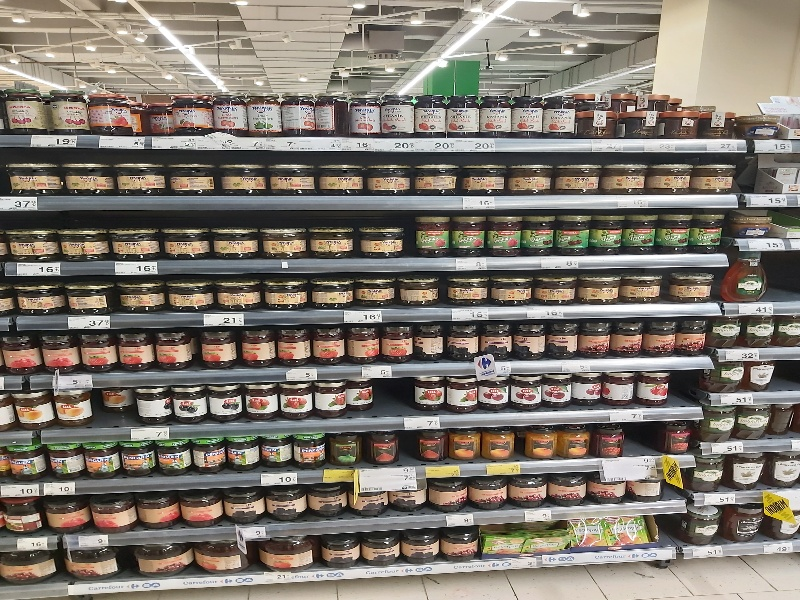urun1: (726, 254, 776, 306), (668, 263, 720, 307), (7, 158, 64, 196), (110, 155, 167, 193), (163, 157, 220, 195), (251, 538, 316, 571), (1, 549, 64, 582), (375, 90, 418, 137), (109, 220, 162, 258), (157, 222, 210, 260), (305, 221, 358, 259), (205, 89, 246, 138), (242, 90, 283, 139), (441, 91, 482, 140), (473, 91, 514, 140), (509, 91, 550, 140), (410, 212, 454, 256), (481, 210, 525, 254), (12, 276, 64, 313), (38, 328, 82, 371), (113, 325, 157, 368), (151, 325, 195, 368), (196, 326, 240, 369), (314, 156, 363, 194), (363, 157, 412, 195), (506, 159, 555, 197), (554, 155, 603, 193), (88, 494, 135, 532), (135, 492, 182, 530), (729, 207, 780, 242), (599, 159, 651, 193), (644, 159, 696, 193), (164, 275, 216, 309), (65, 276, 117, 310), (519, 212, 560, 255), (587, 210, 628, 253), (13, 391, 57, 430), (130, 387, 174, 426), (168, 384, 212, 423), (659, 207, 696, 253), (689, 206, 726, 252), (425, 477, 471, 514), (621, 105, 671, 139), (3, 445, 51, 480), (538, 96, 577, 139), (137, 88, 171, 137), (722, 504, 770, 538), (576, 268, 620, 305), (490, 270, 534, 307), (1, 496, 43, 534), (623, 209, 660, 252), (87, 86, 118, 137), (220, 491, 265, 526), (728, 452, 767, 492), (478, 319, 515, 361), (309, 274, 354, 308), (264, 275, 309, 309), (398, 274, 442, 307), (267, 489, 312, 521), (241, 384, 282, 419), (765, 448, 800, 489), (345, 90, 376, 136), (205, 385, 245, 420), (45, 446, 85, 481), (692, 163, 737, 194), (223, 436, 264, 470), (399, 529, 441, 562), (479, 526, 521, 559), (565, 516, 607, 549), (389, 479, 428, 514), (505, 475, 548, 506), (546, 473, 589, 504), (587, 475, 630, 506), (625, 471, 668, 502), (257, 436, 296, 470), (412, 377, 447, 414), (474, 377, 509, 414), (601, 372, 636, 409), (639, 369, 674, 406), (326, 430, 360, 468), (366, 429, 400, 467), (448, 425, 482, 463), (525, 424, 559, 462), (558, 422, 592, 460), (592, 420, 626, 458), (704, 404, 738, 442), (693, 455, 724, 495), (711, 311, 745, 346), (577, 106, 611, 140), (744, 363, 782, 390), (774, 311, 800, 350)
urun2: (3, 82, 47, 135), (51, 84, 95, 137), (60, 156, 117, 194), (214, 156, 271, 194), (262, 155, 319, 193), (58, 546, 122, 579), (129, 544, 193, 577), (191, 540, 255, 573), (305, 321, 348, 369), (341, 319, 384, 367), (409, 90, 452, 137), (4, 225, 57, 263), (56, 223, 109, 261), (208, 218, 261, 256), (257, 220, 310, 258), (354, 220, 407, 258), (170, 88, 211, 137), (277, 87, 318, 136), (312, 88, 353, 137), (446, 211, 490, 255), (233, 322, 278, 365), (74, 326, 118, 369), (270, 321, 314, 364), (619, 266, 670, 303), (411, 157, 460, 195), (459, 157, 508, 195), (113, 276, 165, 310), (550, 212, 591, 255), (1, 329, 40, 373), (50, 389, 94, 428), (378, 323, 415, 369), (668, 104, 718, 138), (349, 480, 392, 518), (603, 512, 651, 546), (680, 508, 728, 542), (532, 267, 576, 304), (446, 272, 490, 309), (305, 484, 349, 521), (46, 496, 91, 532), (179, 493, 224, 528), (445, 320, 482, 362), (510, 318, 547, 360), (545, 317, 580, 361), (353, 273, 398, 307), (218, 275, 263, 309), (739, 403, 778, 442), (575, 318, 612, 359), (608, 317, 645, 358), (642, 318, 679, 359), (676, 317, 713, 358), (274, 382, 314, 417), (310, 382, 350, 417), (81, 444, 121, 479), (155, 440, 195, 475), (191, 439, 231, 474), (469, 477, 510, 511), (316, 534, 358, 567), (358, 532, 400, 565), (440, 525, 482, 558), (522, 521, 564, 554), (412, 322, 443, 364), (443, 378, 478, 415), (509, 374, 544, 411), (539, 373, 574, 410), (571, 374, 606, 411), (413, 425, 447, 463), (484, 426, 518, 464), (658, 419, 692, 457), (119, 444, 158, 477), (292, 435, 328, 469), (745, 313, 779, 348), (349, 380, 377, 415), (713, 366, 746, 392)
